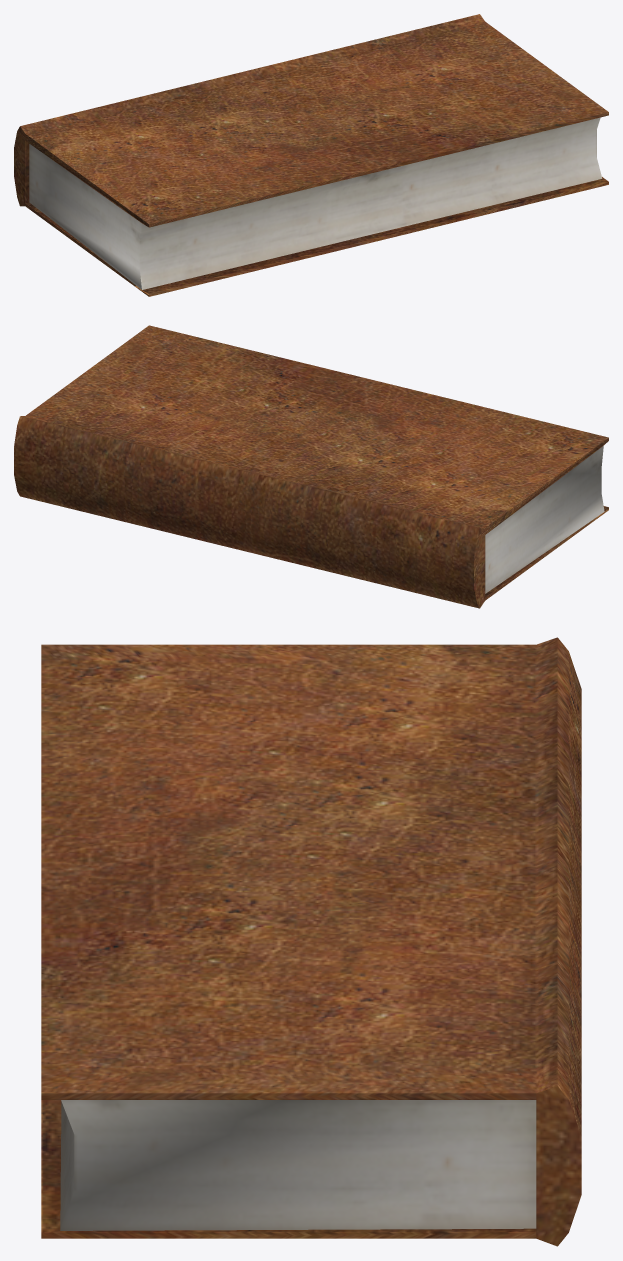
The model's file is book.fbx.
3 renders of one model, top to bottom at view 1: azimuth 30°, elevation 25°; view 2: azimuth 150°, elevation 25°; view 3: azimuth 270°, elevation 25°, orthographic. The views are drawn at different scales.
Visible parts, largest first — view 1: book; view 2: book; view 3: book.
Part boxes in pixels (box(x1,y1,x2,y2)): book: box(14, 14, 608, 296); book: box(14, 325, 608, 608); book: box(41, 637, 581, 1246).
Bounding box in the file's own units: 0.3009 × 0.05 × 0.1527.
